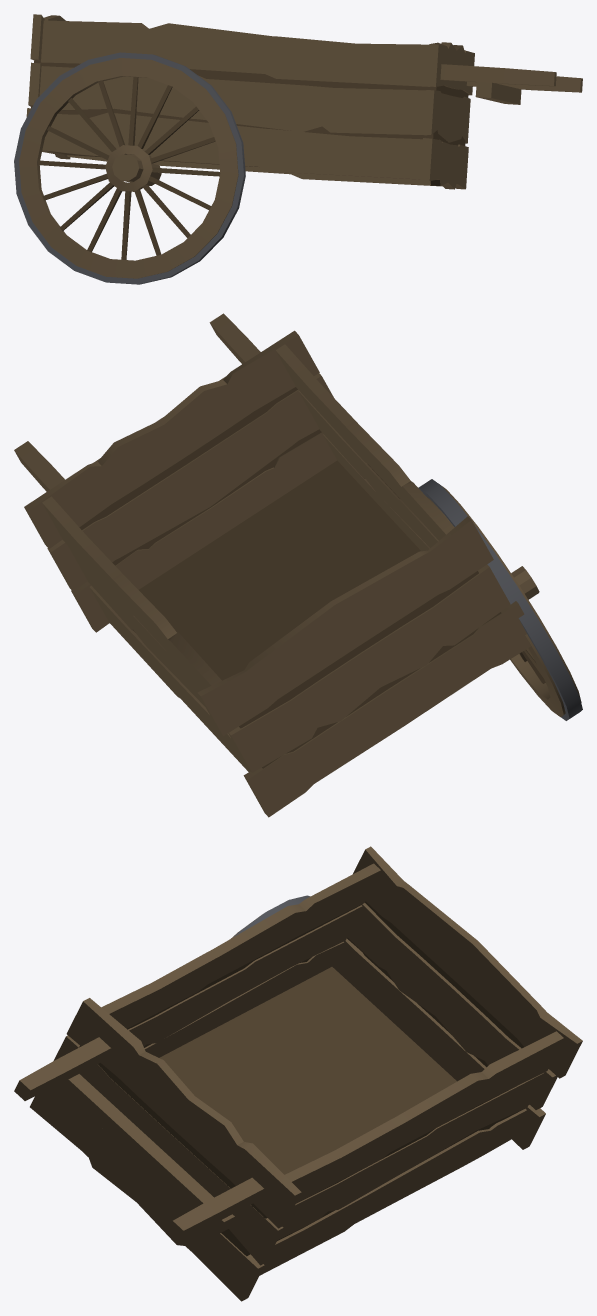
Rendered from Cart.glb.
3 renders of one model, top to bottom at view 1: azimuth 30°, elevation 25°; view 2: azimuth 150°, elevation 25°; view 3: azimuth 270°, elevation 25°, orthographic. The views are drawn at different scales.
Parts seen in each view (by area): view 1: Wood, DarkWood, Metal; view 2: Wood, DarkWood, Metal; view 3: Wood, DarkWood.
Part boxes in pixels (x1,y1,x2,y2): Wood: (19,14,582,278); DarkWood: (31,24,468,259); Metal: (14,52,245,284); Wood: (14,313,581,817); DarkWood: (79,387,545,768); Metal: (418,479,582,720); Wood: (14,846,582,1301); DarkWood: (79,901,529,1256).
Bounding box in the file's own units: 3.31 × 1.38 × 2.83.
